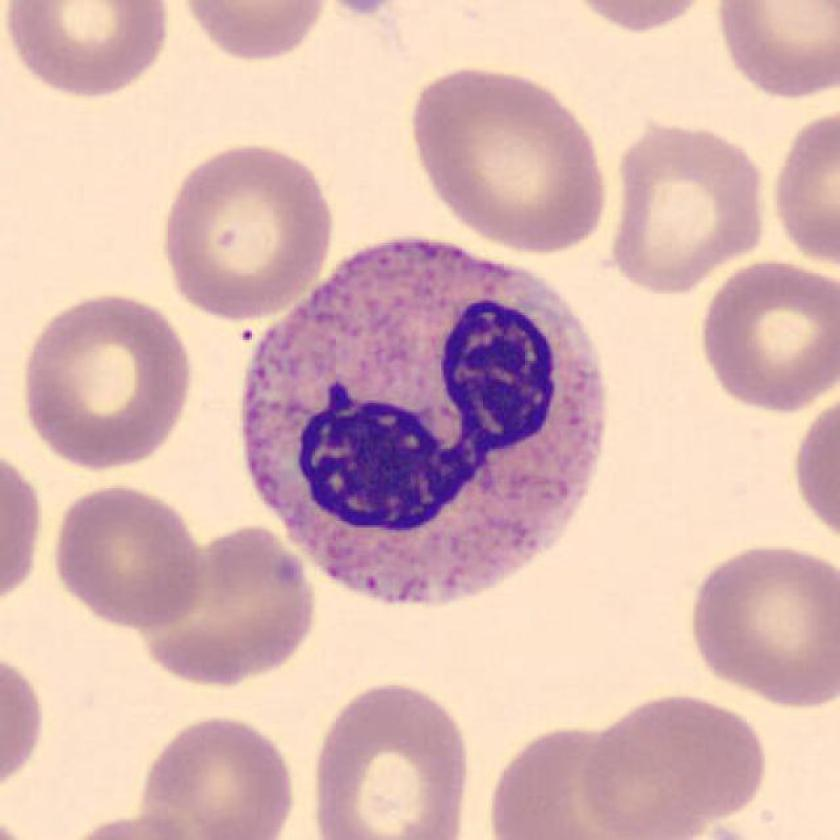neutrophil: (241, 239, 606, 605)
